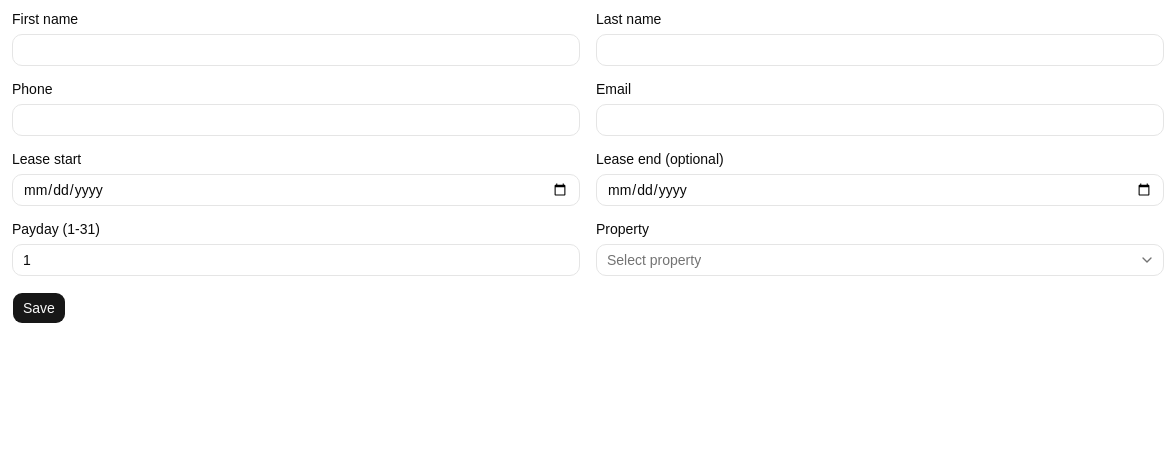
Test: TenantForm › shows zod validation errors on invalid input
Submit with everything empty — required fields fail validation.
Click the button "Save": (39, 308) left=12, top=292, right=66, bottom=324
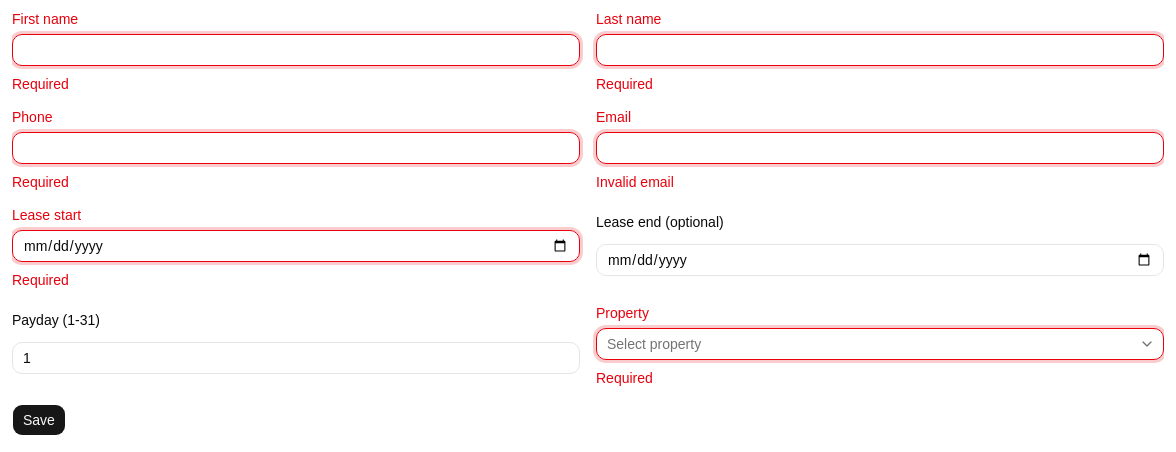
Expected: the text "Required" below "First name" is shown, left=12, top=76, right=69, bottom=92
